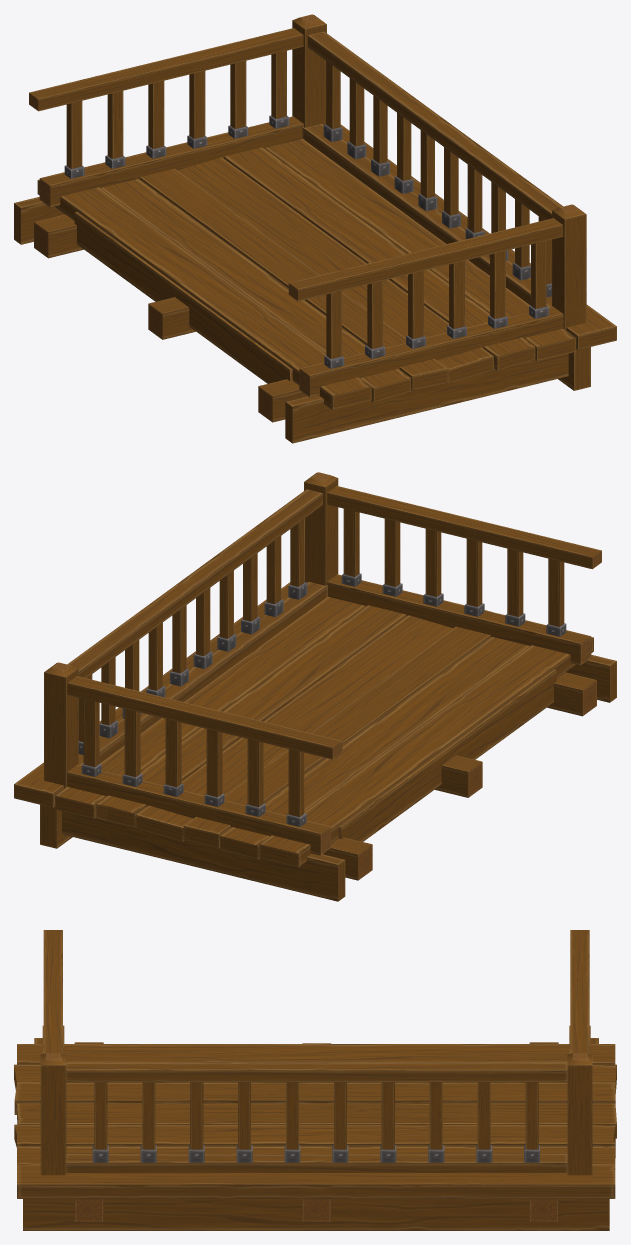
File: SM_Balcony_01.fbx
3 renders of one model, top to bottom at view 1: azimuth 30°, elevation 25°; view 2: azimuth 150°, elevation 25°; view 3: azimuth 270°, elevation 25°, orthographic.
Visible parts, largest first — view 1: SM_Balcony_01; view 2: SM_Balcony_01; view 3: SM_Balcony_01.
Boxes of the visible parts, x1=… form: SM_Balcony_01: x1=14, y1=14, x2=616, y2=443; SM_Balcony_01: x1=14, y1=472, x2=616, y2=901; SM_Balcony_01: x1=14, y1=930, x2=616, y2=1230.
Size of the model in its own units: 3.09 by 1.58 by 5.04.
